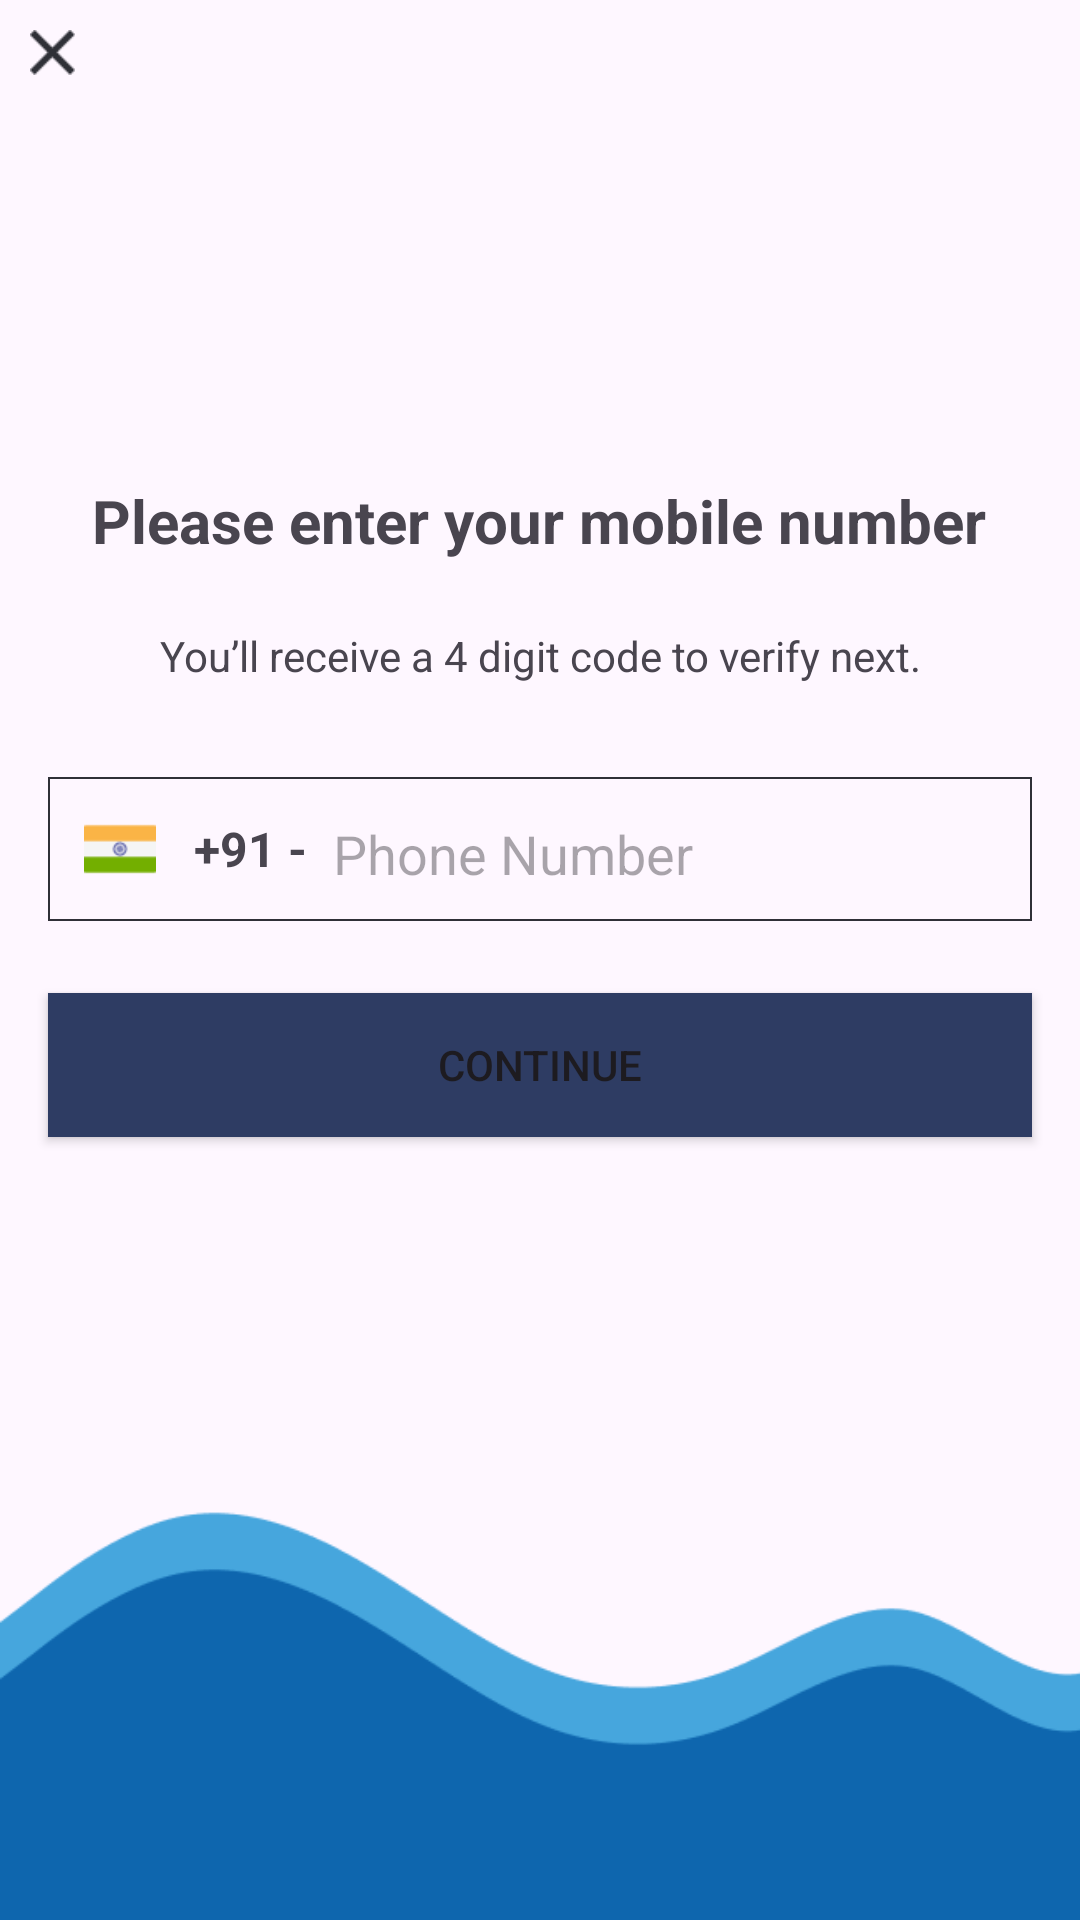

Named icons in this screenshot (1080 x 1920) and their centers, [x,y]:
close: [52,52]
flag: [120,849]
